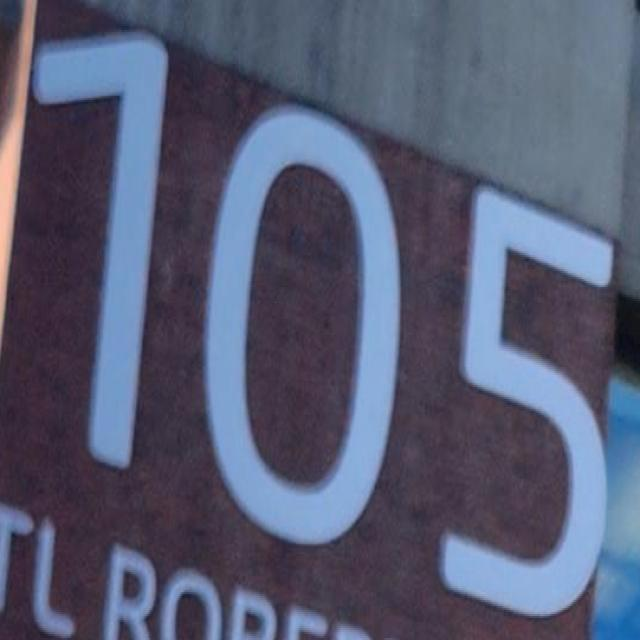character: (197, 99, 409, 552), (434, 174, 616, 622), (30, 26, 176, 484)
